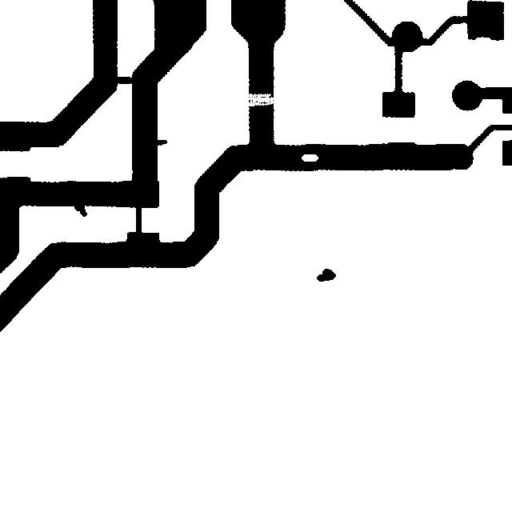copper: (309, 261, 343, 289)
open: (236, 86, 282, 114)
pin-hole: (294, 146, 326, 169)
short: (128, 195, 149, 242), (106, 69, 146, 91)
spur: (66, 194, 94, 224), (144, 132, 174, 153)
